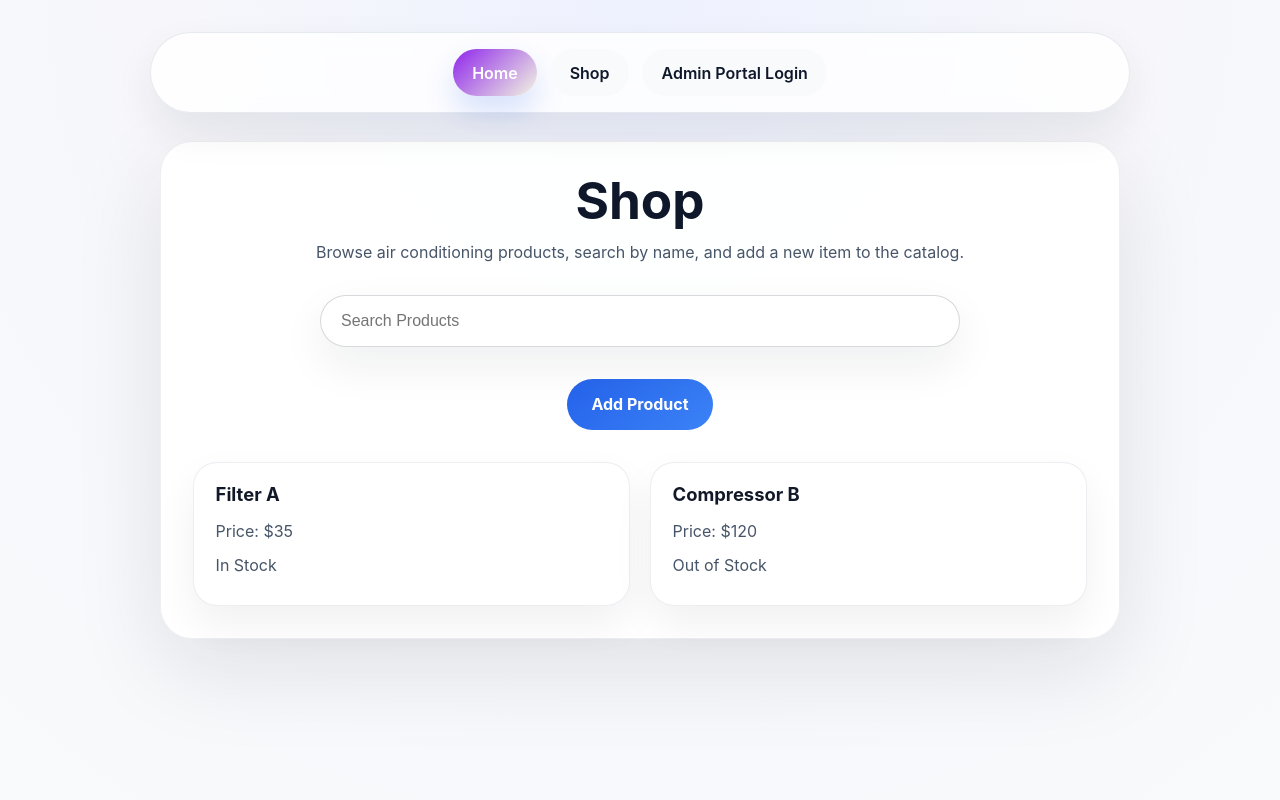
Shop page › filters product results when search input changes
The image size is (1280, 800).
Expected: the heading "Filter A" is shown, [216, 482, 280, 504]
Type "compressor" into the field with placeholder "Search Products" at (640,321), box [320, 295, 960, 347]
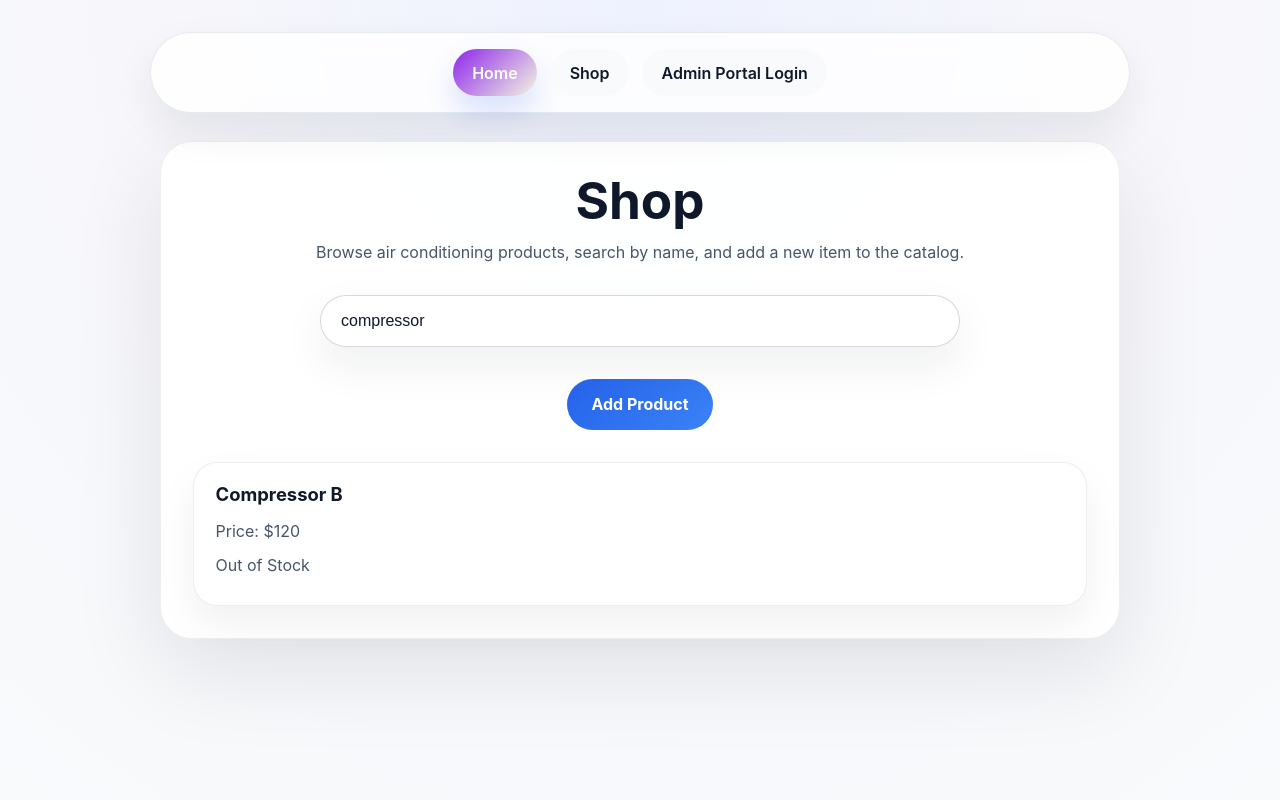
Expected: the heading "Compressor B" is shown, [216, 482, 343, 504]
Expected: the link "Filter A" is gone
